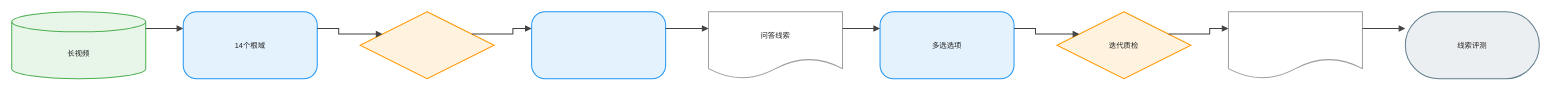
Some shapes in this 1552 by 91 pixel diagram are drawn without their labels. The shapes that lost their labels are listed below. From the top down, each one's centre as x and y in pixels, then its label:
At (x=426, y=45): "7轮筛选".
At (x=598, y=45): "问题分类".
At (x=1295, y=45): "12,129组QAC".
